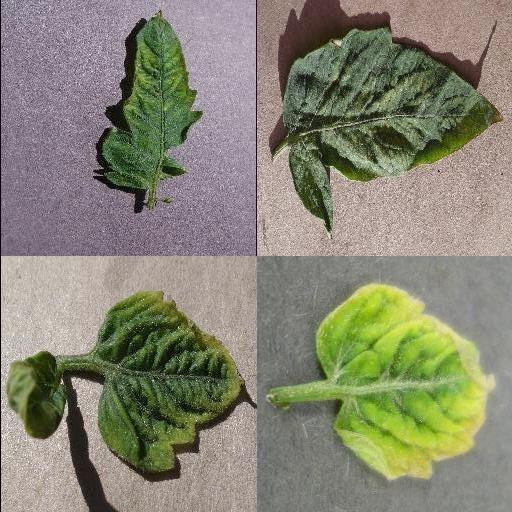Mosaic Virus: (100, 8, 204, 192)
Spider Mites: (283, 28, 505, 240)
Yellow Leaf Curl Virus: (314, 284, 496, 480), (97, 291, 243, 473)
